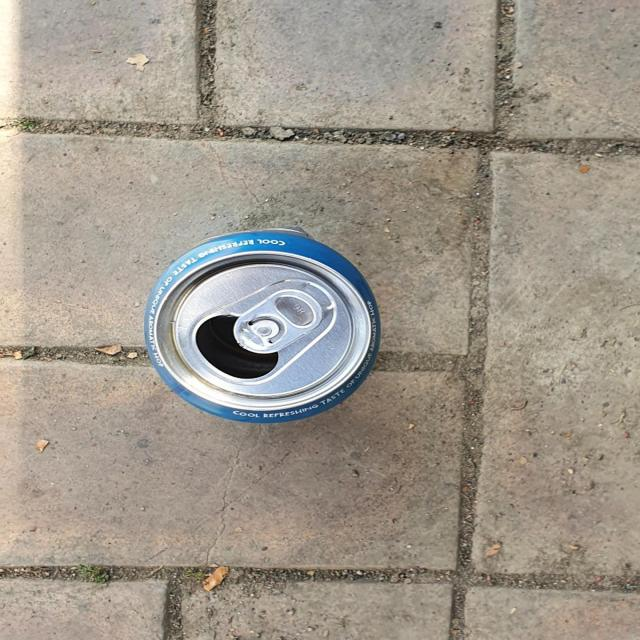can: (144, 228, 380, 424)
